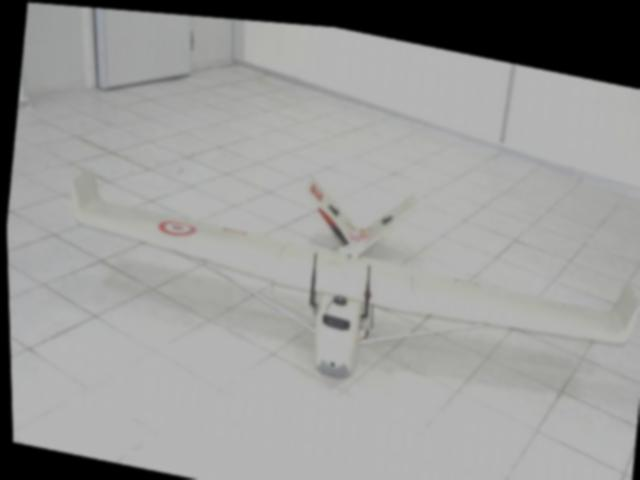iha: (46, 133, 640, 409)
